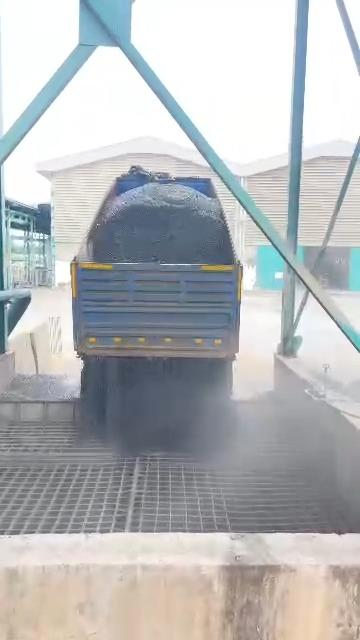gravel: (82, 356, 233, 447), (88, 182, 231, 264), (0, 375, 79, 400)
